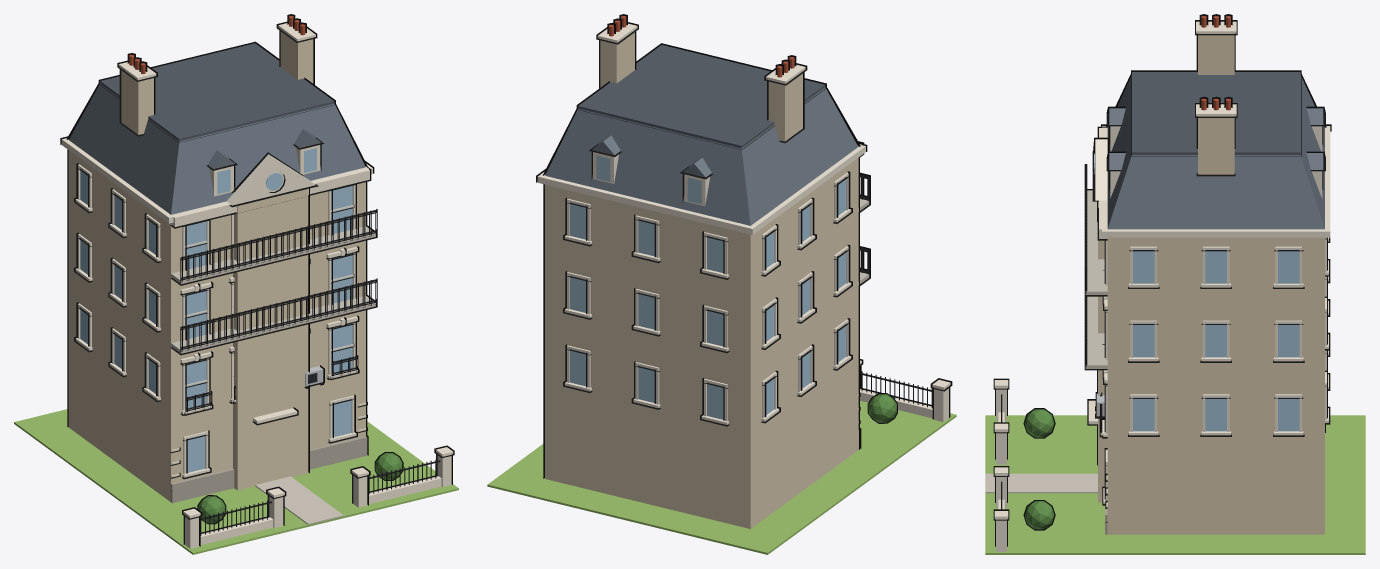
The model's file is Konut_villa_kosk.fbx.
The picture shows the model from 3 angles, left to right: view 1: azimuth 30°, elevation 25°; view 2: azimuth 150°, elevation 25°; view 3: azimuth 270°, elevation 25°; orthographic projection. The views are drawn at different scales.
Parts seen in each view (by area): view 1: Konut_villa_kosk; view 2: Konut_villa_kosk; view 3: Konut_villa_kosk.
Part boxes in pixels (box(x1,y1,x2,y2)): Konut_villa_kosk: box(14, 14, 458, 554); Konut_villa_kosk: box(487, 14, 956, 554); Konut_villa_kosk: box(985, 14, 1365, 554).
Bounding box in the file's own units: 12 × 17.4 × 14.
